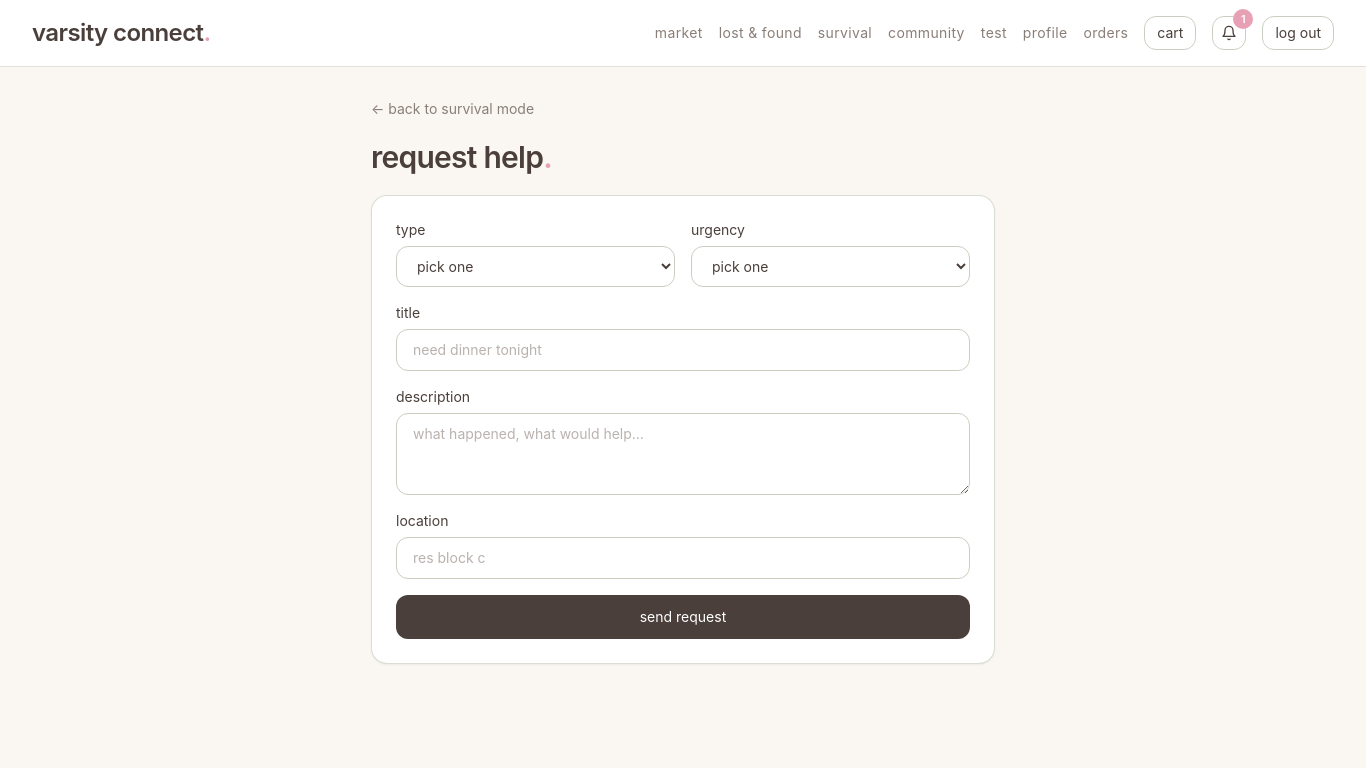
Test: request help form › validates the fields
Check: the field labelled "title" is shown, box [396,329,970,371]
Click the button "send request": [683, 617] box [396,595,970,639]
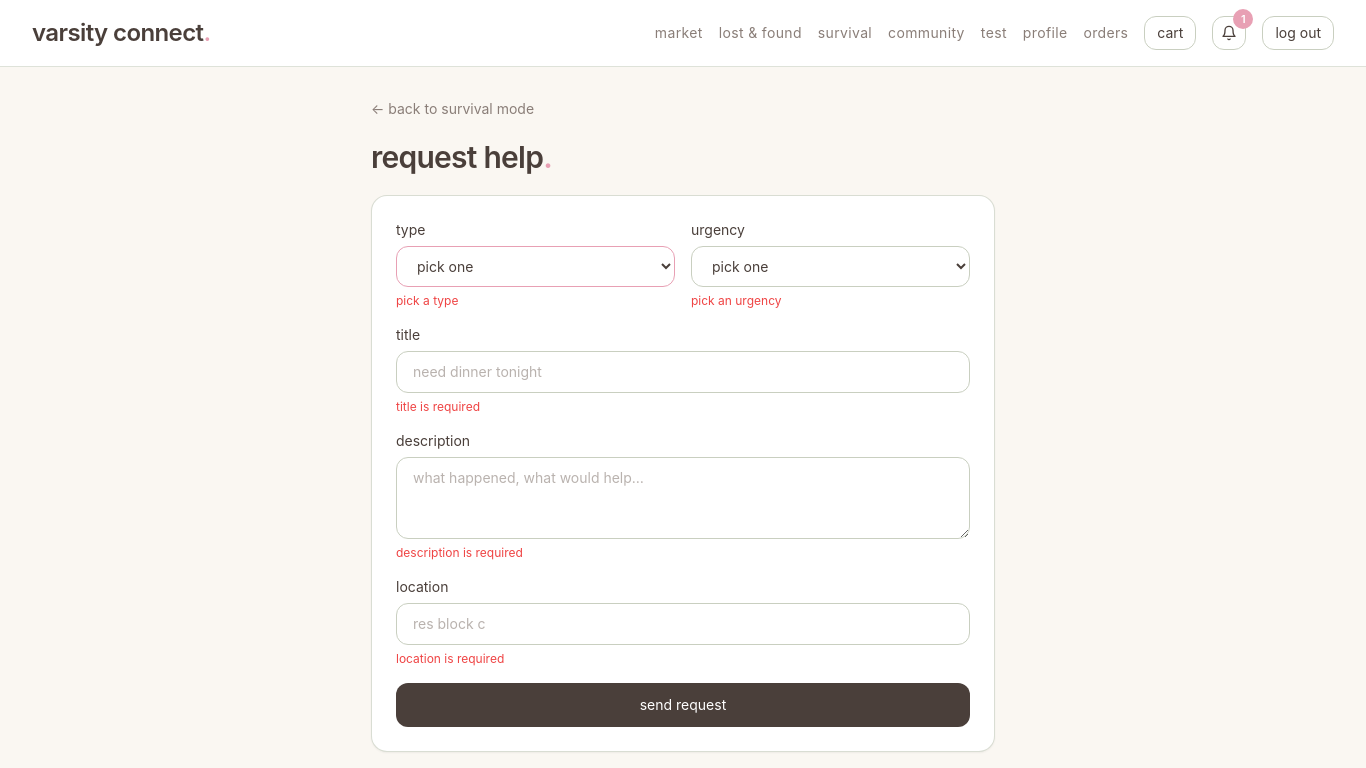
Check: the text "title is required" is shown, box [396,399,480,414]
Check: the text "description is required" is shown, box [396,545,523,560]
